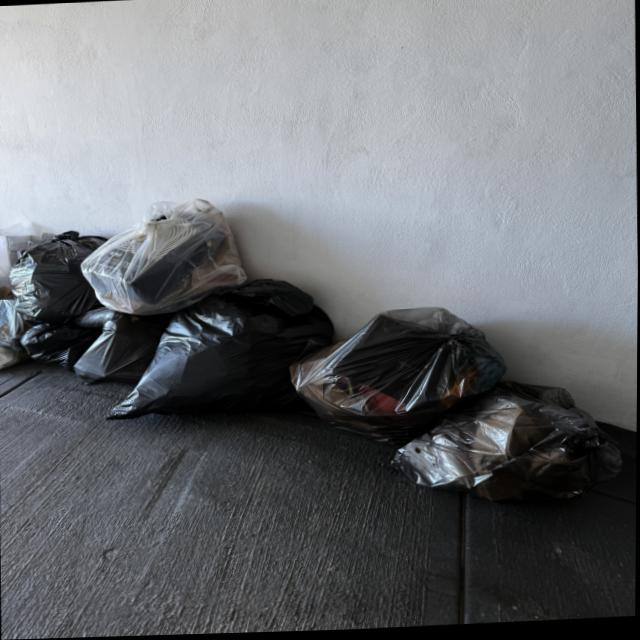Mixed Waste -Black Bags-: (0, 230, 623, 504)
Recyclable Material -Grey Bags-: (80, 198, 248, 315)
